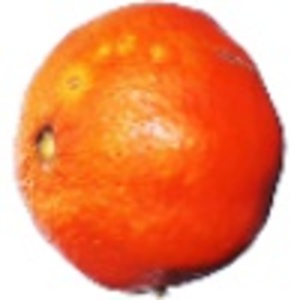tangerina: (12, 2, 288, 300)
